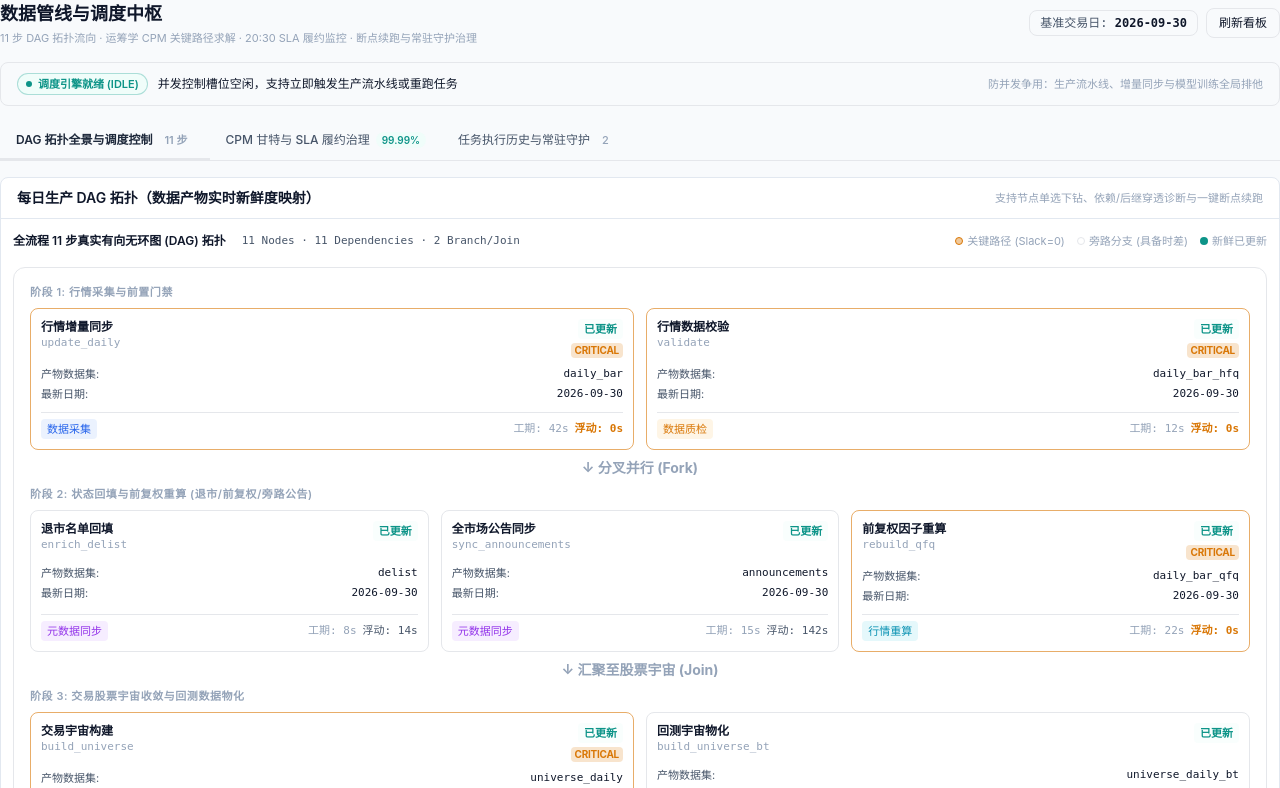
Test: Pipeline Evolution & Industrial Quantitative Dispatch Workbench › switches to CPM Gantt and SLA Governance tab and displays predictions
Click the text "CPM 甘特与 SLA 履约治理" at (298, 140), box x1=226 y1=132 x2=370 y2=148
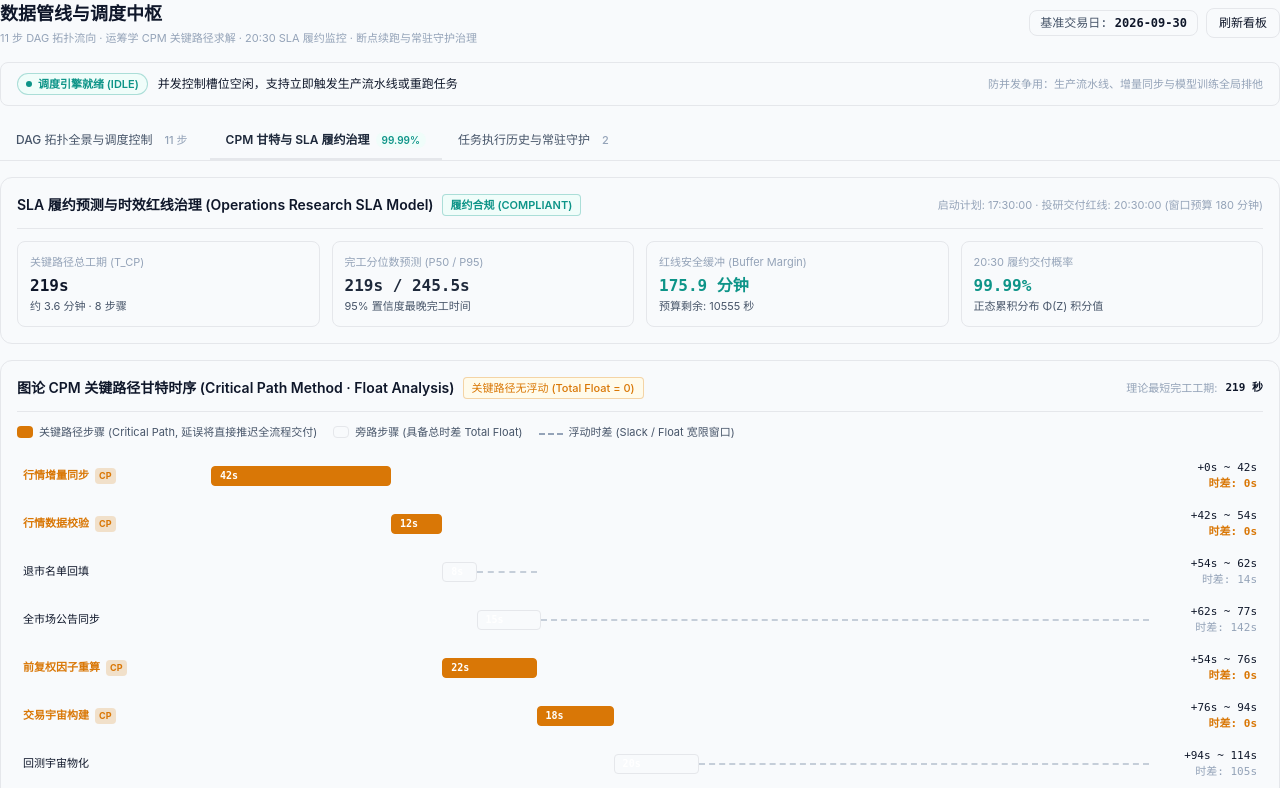
Check: the text "履约合规 (COMPLIANT)" is shown, box x1=442 y1=194 x2=581 y2=216
Check: the text "219s" is shown, box x1=30 y1=276 x2=68 y2=295
Check: the text "图论 CPM 关键路径甘特时序 (Critical Path Method · Float Analysis)" is shown, box x1=17 y1=378 x2=454 y2=398
